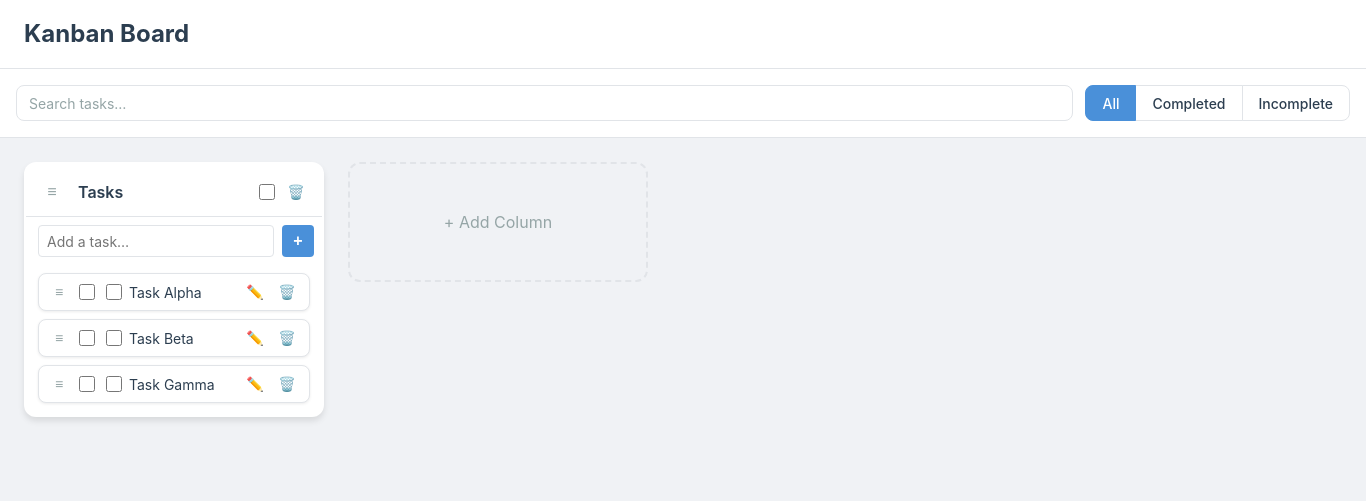
Test: Integration: Bulk select → bulk delete › selects tasks via checkboxes and removes them with bulk delete
Expected: the text "Task Alpha" is shown, left=129, top=284, right=202, bottom=300
Expected: the text "Task Beta" is shown, left=129, top=330, right=194, bottom=346
Note: Checkboxes correspond to tasks in order: t1, t2, t3
Click the checkbox named "Select task for bulk operation" next to "Task Alpha". click: (87, 292)
box: left=79, top=284, right=95, bottom=300
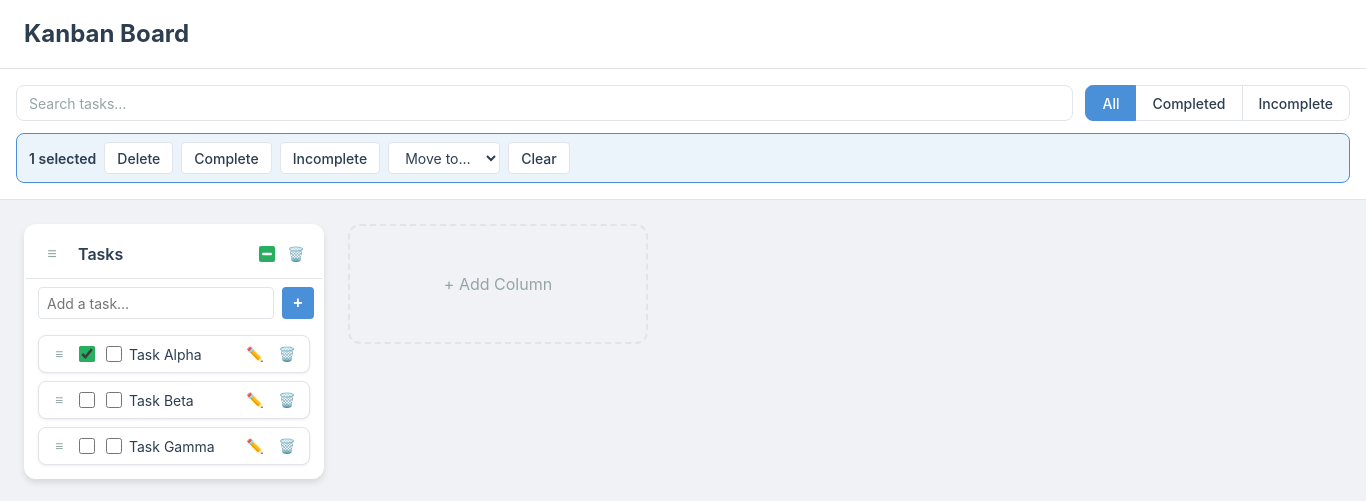
Click the checkbox named "Select task for bulk operation" next to "Task Gamma". click: (87, 446)
box: left=79, top=438, right=95, bottom=454
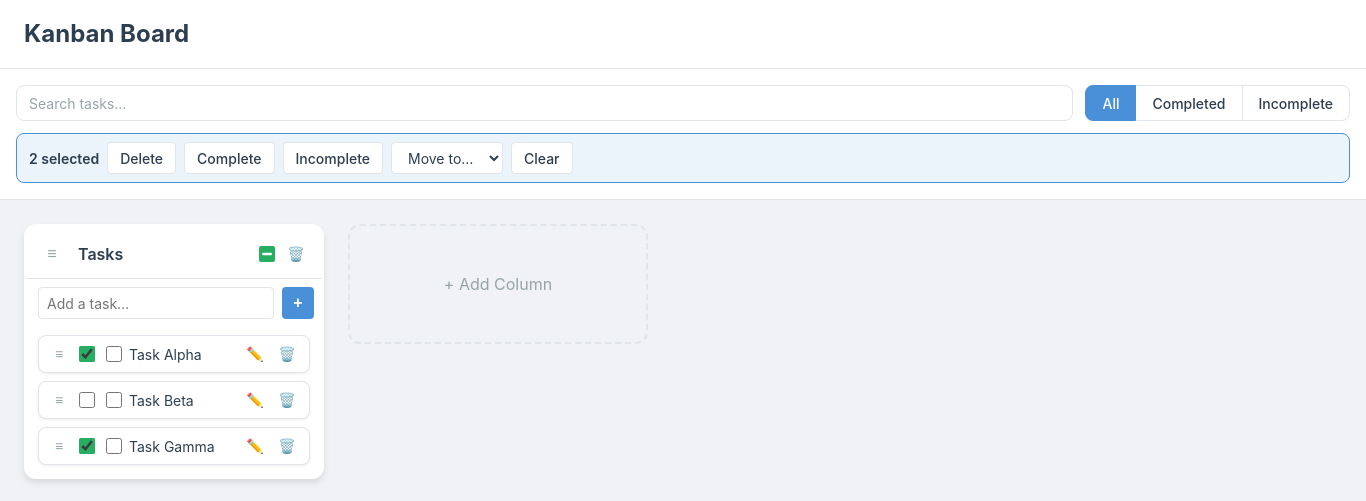
Now the text "2 selected" is shown, box left=29, top=148, right=99, bottom=168
Note: Click bulk delete
Click the button "Delete". click: (142, 158)
box: left=107, top=142, right=176, bottom=174
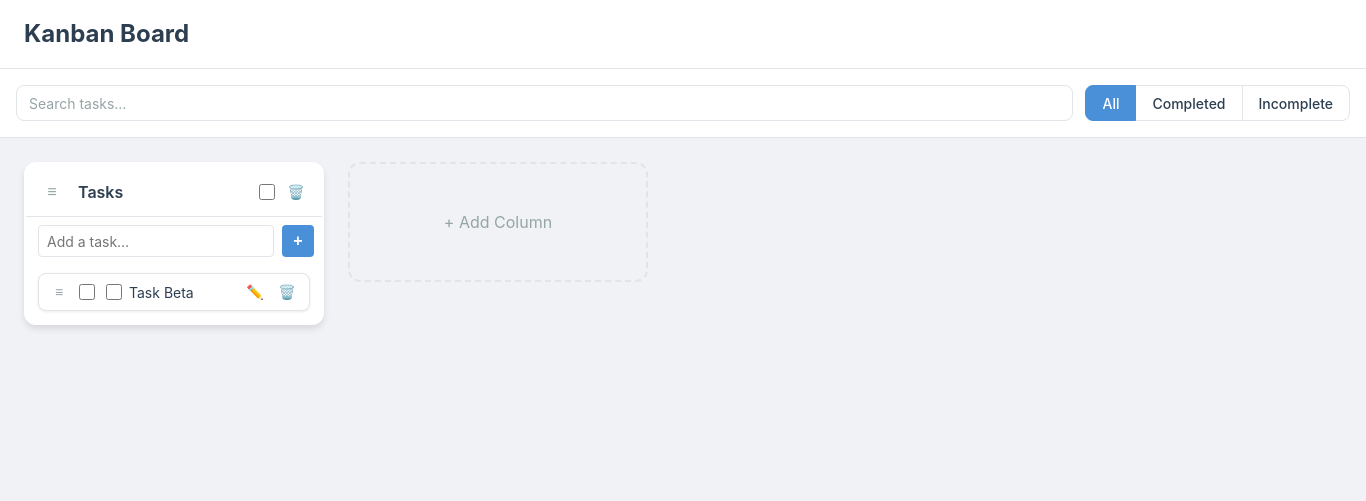
Expected: the text "Task Beta" is shown, left=129, top=284, right=194, bottom=300
Now the text "Task Alpha" is gone
Now the text "Task Gamma" is gone
